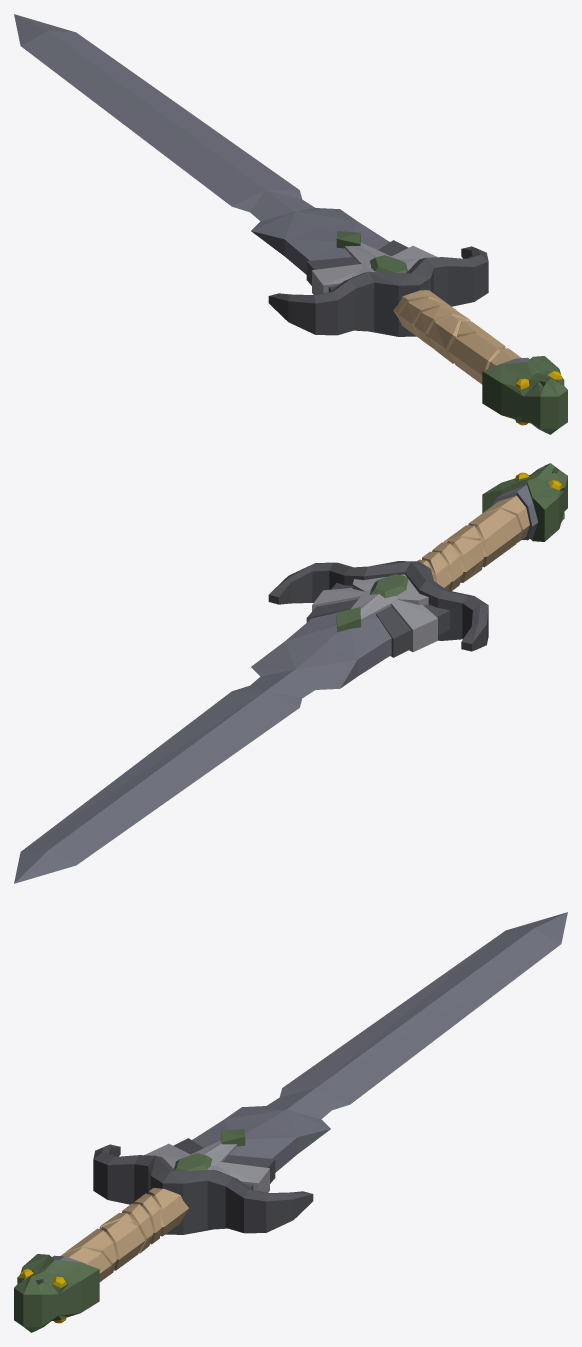
File: sword_4.glb
3 renders of one model, top to bottom at view 1: azimuth 30°, elevation 25°; view 2: azimuth 150°, elevation 25°; view 3: azimuth 330°, elevation 25°, orthographic.
Visible parts, largest first — view 1: sword_4; view 2: sword_4; view 3: sword_4.
Boxes of the visible parts, left/top/right/bottom form: sword_4: left=14, top=14, right=567, bottom=434; sword_4: left=14, top=463, right=567, bottom=883; sword_4: left=14, top=912, right=567, bottom=1332.
Size of the model in its own units: 0.1827 by 0.054 by 0.8482.
Materials: 1 (1 with a texture image).
